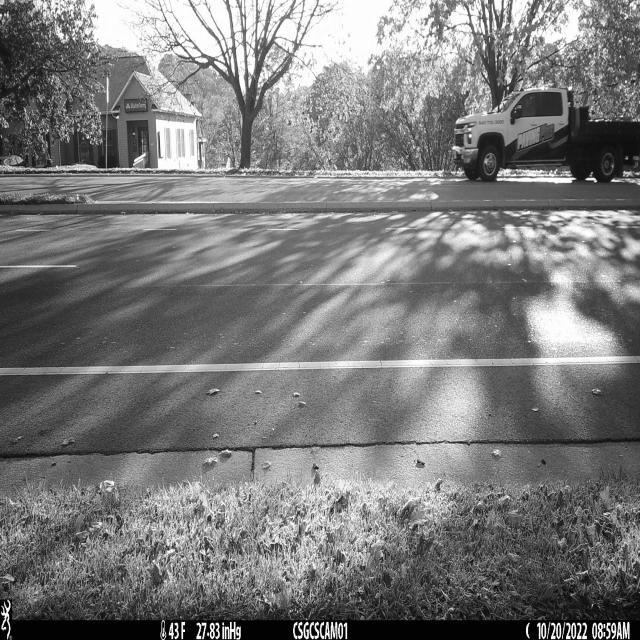Pickup- Utility: (453, 88, 640, 183)
